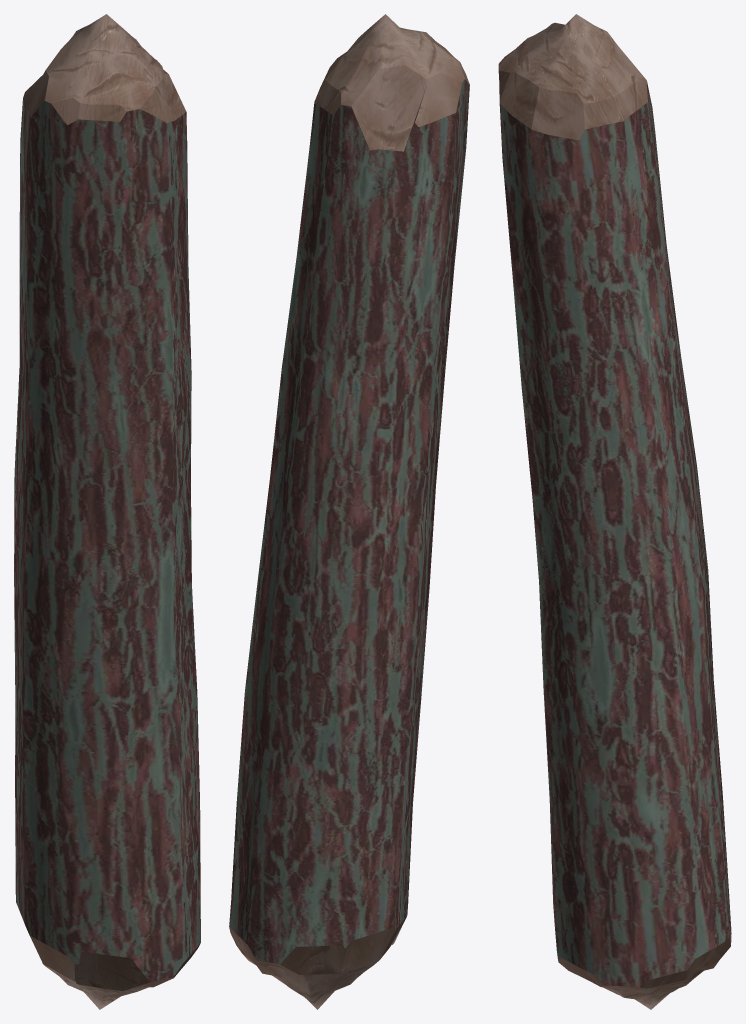
3 views of the same model, side by side, from view 1: azimuth 30°, elevation 25°; view 2: azimuth 150°, elevation 25°; view 3: azimuth 270°, elevation 25° (orthographic). The views are drawn at different scales.
Visible parts, largest first — view 1: SM_MapleTree_02_stump_LOD0; view 2: SM_MapleTree_02_stump_LOD0; view 3: SM_MapleTree_02_stump_LOD0.
Part boxes in pixels (x1,y1,x2,y2): SM_MapleTree_02_stump_LOD0: (14, 14, 200, 1009); SM_MapleTree_02_stump_LOD0: (229, 14, 469, 1009); SM_MapleTree_02_stump_LOD0: (498, 14, 731, 1009).
Size of the model in its own units: 0.5347 by 2.76 by 0.5932.
